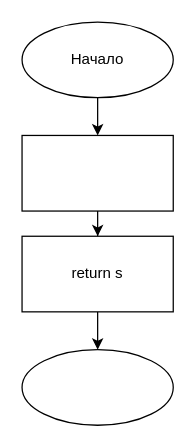
Image size: 195x447. Some labels were removed from this diagram. The shapes that lost their labels are listed below. From the top down, each one's centre as x and y in pixels, then its label:
At point (97, 172): "s = a * a * sqrt(3) / 4;".
At point (97, 386): "Конец".
